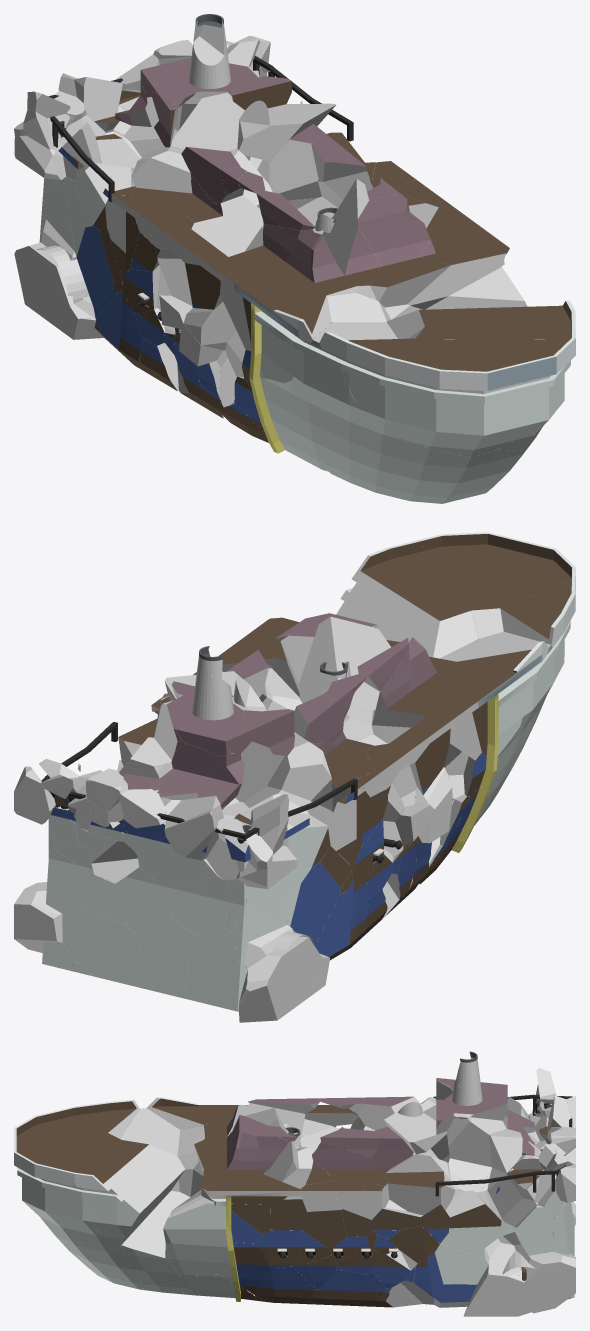
The model's file is Barco4Roto.fbx.
3 renders of one model, top to bottom at view 1: azimuth 30°, elevation 25°; view 2: azimuth 150°, elevation 25°; view 3: azimuth 270°, elevation 25°, orthographic. The views are drawn at different scales.
Visible parts, largest first — view 1: Cylinder.003_cell.235, Cylinder.003_cell.399, Cylinder.003_cell.113, Cylinder.003_cell.413, Cylinder.003_cell.151, Cylinder.003_cell.049, Cylinder.003_cell.137, Cylinder.003_cell.095, Cylinder.003_cell.271, Cylinder.003_cell.162, Cylinder.003_cell.452, Cylinder.003_cell.168 (+58 smaller); view 2: Cylinder.003_cell.162, Cylinder.003_cell.235, Cylinder.003_cell.413, Cylinder.003_cell.137, Cylinder.003_cell.452, Cylinder.003_cell.271, Cylinder.003_cell.113, Cylinder.003_cell.399, Cylinder.003_cell.417, Cylinder.003_cell.221, Cylinder.003_cell.067, Cylinder.003_cell.318 (+67 smaller); view 3: Cylinder.003_cell.162, Cylinder.003_cell.115, Cylinder.003_cell.417, Cylinder.003_cell.235, Cylinder.003_cell.412, Cylinder.003_cell.010, Cylinder.003_cell.492, Cylinder.003_cell.113, Cylinder.003_cell.136, Cylinder.003_cell.022, Cylinder.003_cell.164, Cylinder.003_cell.196 (+68 smaller).
Part boxes in pixels (left/top/right/bottom): Cylinder.003_cell.235: left=417, top=326, right=575, bottom=457; Cylinder.003_cell.399: left=291, top=322, right=397, bottom=492; Cylinder.003_cell.113: left=319, top=332, right=437, bottom=443; Cylinder.003_cell.413: left=233, top=280, right=331, bottom=382; Cylinder.003_cell.151: left=376, top=439, right=526, bottom=503; Cylinder.003_cell.049: left=357, top=193, right=450, bottom=307; Cylinder.003_cell.137: left=219, top=224, right=356, bottom=296; Cylinder.003_cell.095: left=407, top=232, right=505, bottom=309; Cylinder.003_cell.271: left=322, top=178, right=385, bottom=307; Cylinder.003_cell.162: left=387, top=300, right=572, bottom=338; Cylinder.003_cell.452: left=14, top=242, right=84, bottom=325; Cylinder.003_cell.168: left=155, top=195, right=262, bottom=258; Cylinder.003_cell.162: left=336, top=548, right=478, bottom=658; Cylinder.003_cell.235: left=418, top=532, right=575, bottom=606; Cylinder.003_cell.413: left=457, top=641, right=548, bottom=758; Cylinder.003_cell.137: left=372, top=637, right=469, bottom=727; Cylinder.003_cell.452: left=238, top=933, right=321, bottom=1022; Cylinder.003_cell.271: left=298, top=616, right=390, bottom=711; Cylinder.003_cell.113: left=500, top=568, right=575, bottom=676; Cylinder.003_cell.399: left=440, top=631, right=556, bottom=816; Cylinder.003_cell.417: left=389, top=540, right=503, bottom=638; Cylinder.003_cell.221: left=136, top=918, right=192, bottom=998; Cylinder.003_cell.067: left=184, top=933, right=245, bottom=1000; Cylinder.003_cell.318: left=169, top=875, right=230, bottom=935; Cylinder.003_cell.162: left=73, top=1140, right=185, bottom=1245; Cylinder.003_cell.115: left=163, top=1197, right=235, bottom=1275; Cylinder.003_cell.417: left=34, top=1133, right=121, bottom=1239; Cylinder.003_cell.235: left=14, top=1116, right=105, bottom=1211; Cylinder.003_cell.412: left=463, top=1243, right=531, bottom=1316; Cylinder.003_cell.010: left=120, top=1191, right=190, bottom=1286; Cylinder.003_cell.492: left=502, top=1244, right=575, bottom=1313; Cylinder.003_cell.113: left=36, top=1099, right=139, bottom=1138; Cylinder.003_cell.136: left=385, top=1171, right=455, bottom=1215; Cylinder.003_cell.022: left=445, top=1190, right=503, bottom=1248; Cylinder.003_cell.164: left=447, top=1117, right=506, bottom=1167; Cylinder.003_cell.196: left=202, top=1174, right=299, bottom=1204.
Bounding box in the file's own units: 7.12 × 8.08 × 19.03.
